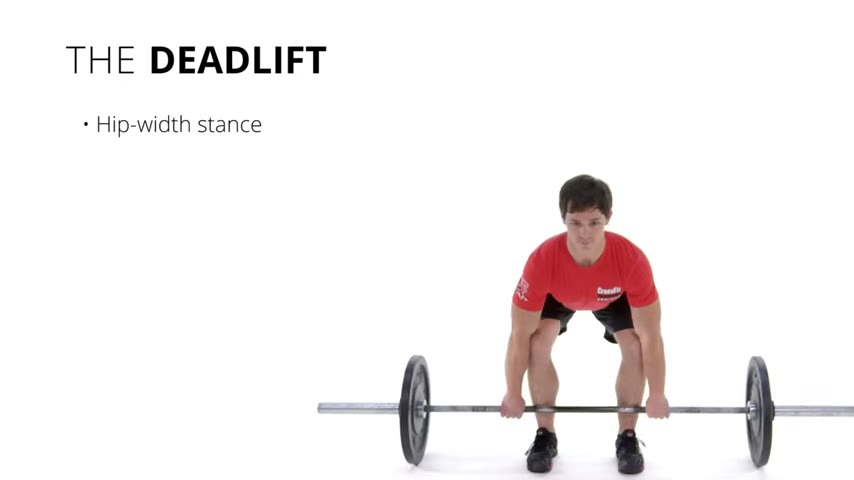barbell_plate_side: (316, 351, 409, 459)
